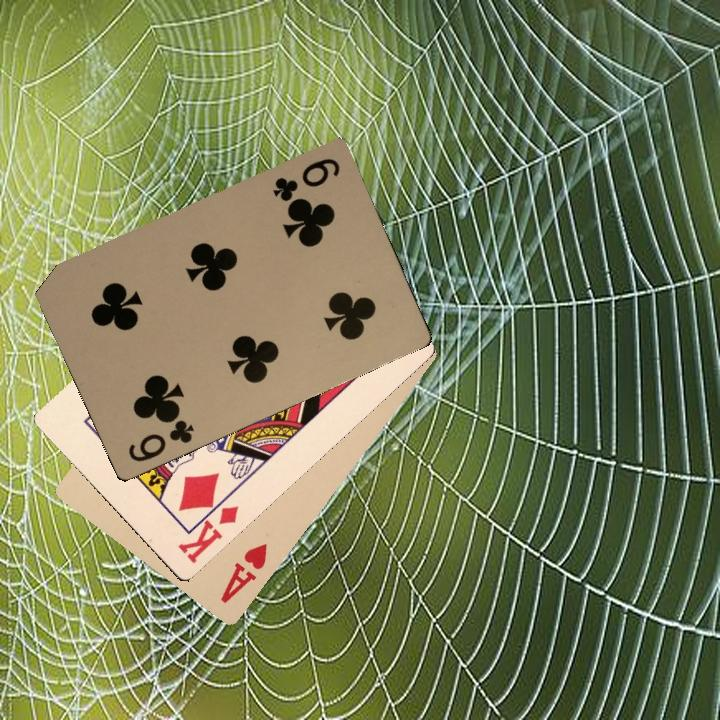6c: (124, 409, 196, 465), (269, 154, 343, 206)
Ah: (216, 539, 270, 606)
Kd: (174, 492, 241, 566)
